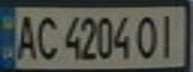0: (96, 12, 115, 61)
2: (78, 12, 100, 61)
4: (112, 11, 136, 60), (60, 12, 81, 61)
A: (12, 11, 39, 61)
C: (33, 11, 60, 61)
I: (154, 10, 184, 60)
O: (133, 11, 163, 61)
